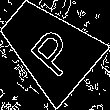P_NW: (18, 16, 78, 77)
